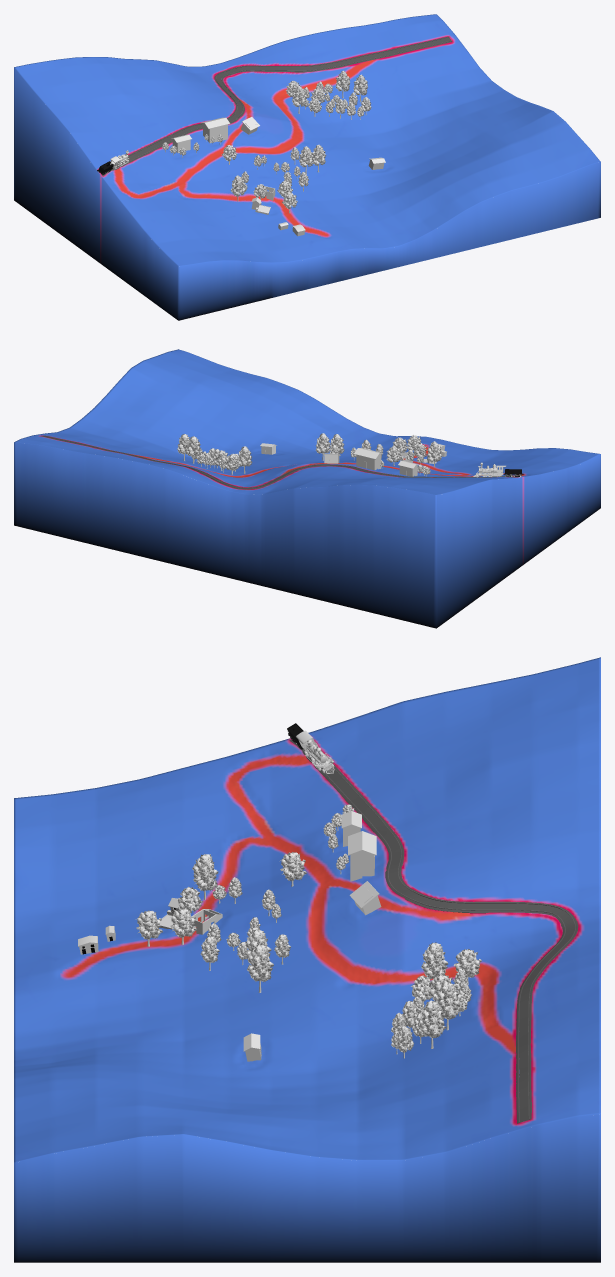
The model's file is Environment.glb.
3 renders of one model, top to bottom at view 1: azimuth 30°, elevation 25°; view 2: azimuth 150°, elevation 25°; view 3: azimuth 270°, elevation 25°, orthographic. The views are drawn at different scales.
Visible parts, largest first — view 1: EXPORT_GOOGLE_SAT_WM001, EXPORT_GOOGLE_SAT_WM001_1, Plane001, Plane001_1, Cube007; view 2: EXPORT_GOOGLE_SAT_WM001_1, EXPORT_GOOGLE_SAT_WM001, Plane001, Plane001_1, Cube007; view 3: EXPORT_GOOGLE_SAT_WM001, EXPORT_GOOGLE_SAT_WM001_1, Plane001, Plane001_1, Cube007.
Boxes of the visible parts, <box> form: EXPORT_GOOGLE_SAT_WM001: <box>14,14,600,266</box>; EXPORT_GOOGLE_SAT_WM001_1: <box>14,67,600,320</box>; Plane001: <box>101,36,452,176</box>; Plane001_1: <box>112,37,451,169</box>; Cube007: <box>201,117,230,143</box>; EXPORT_GOOGLE_SAT_WM001_1: <box>14,442,600,628</box>; EXPORT_GOOGLE_SAT_WM001: <box>14,349,600,495</box>; Plane001: <box>41,436,513,489</box>; Plane001_1: <box>41,435,517,489</box>; Cube007: <box>354,448,383,470</box>; EXPORT_GOOGLE_SAT_WM001: <box>14,657,600,1162</box>; EXPORT_GOOGLE_SAT_WM001_1: <box>14,1114,600,1262</box>; Plane001: <box>289,739,578,1123</box>; Plane001_1: <box>304,749,575,1122</box>; Cube007: <box>348,831,376,881</box>.
Size of the model in its own units: 82047 by 24614 by 55099.
